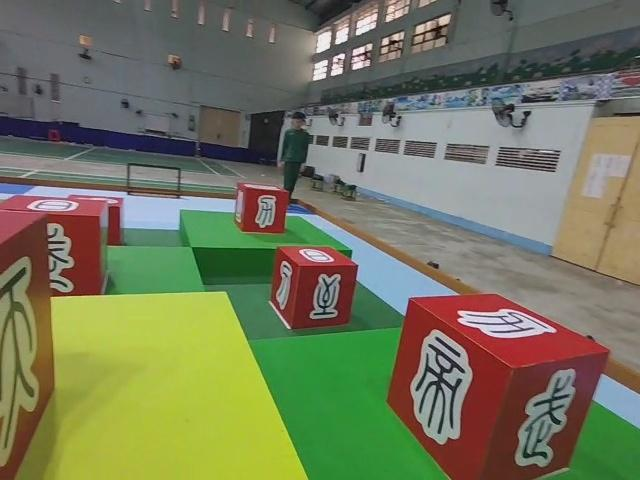R2 Fake: (385, 291, 612, 480), (0, 207, 56, 477), (269, 244, 360, 329), (234, 184, 292, 234)
